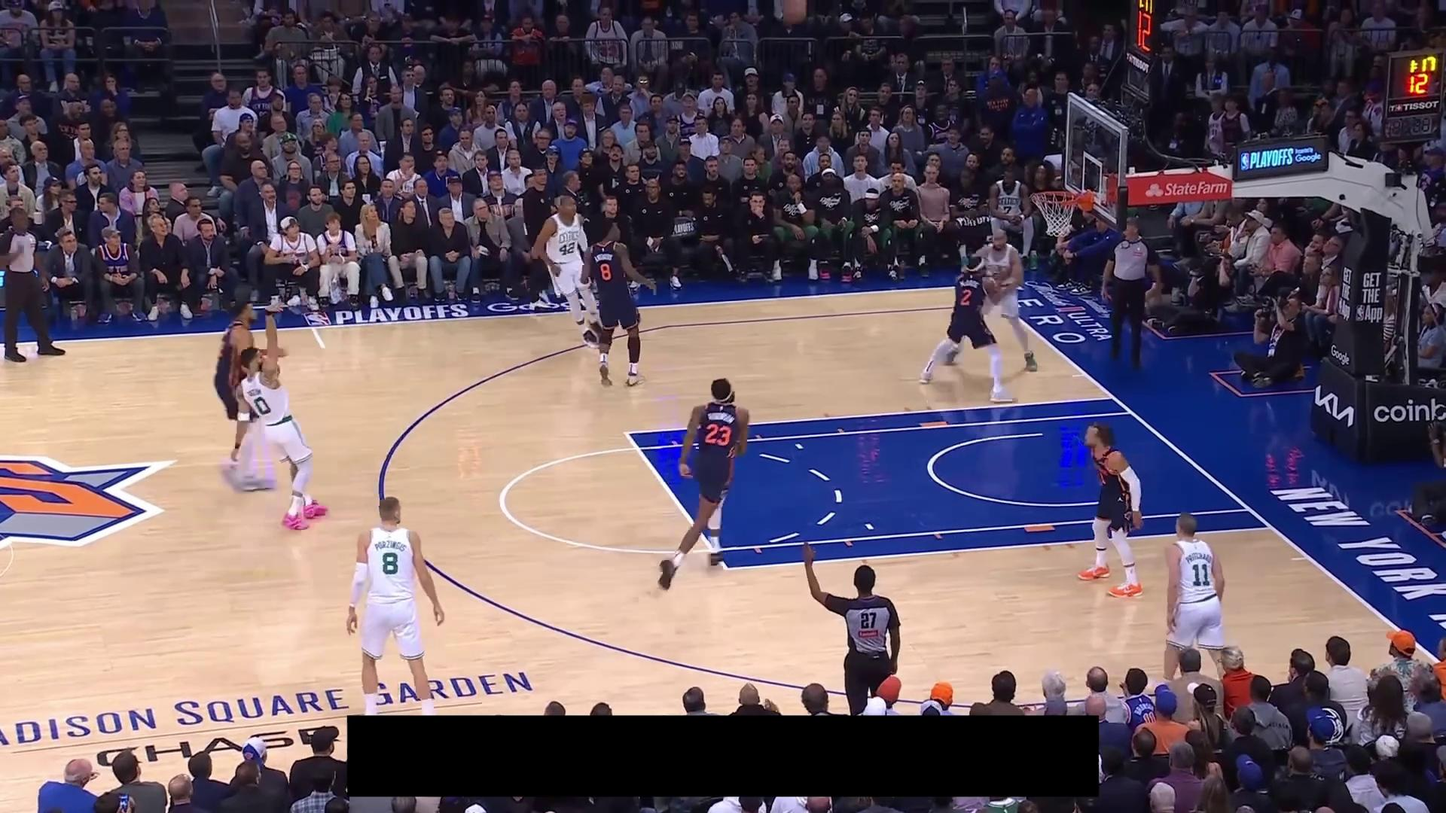number: (705, 423, 732, 446), (1191, 563, 1210, 586), (382, 552, 399, 575), (253, 396, 270, 416), (560, 240, 576, 257), (599, 263, 612, 282), (960, 288, 972, 306)
player: (345, 495, 445, 716), (657, 376, 752, 591), (232, 345, 329, 531), (918, 254, 1018, 404), (213, 297, 288, 492), (1154, 509, 1233, 694), (941, 227, 1039, 375), (578, 218, 657, 388), (1075, 421, 1148, 601), (532, 193, 606, 352)
referee: (802, 540, 901, 714), (0, 206, 67, 363), (1100, 217, 1163, 372)
rim: (1030, 190, 1079, 206)
